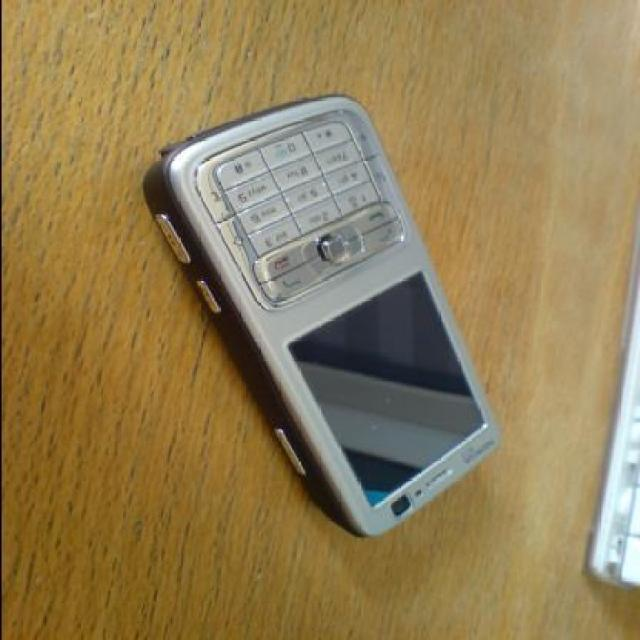phone: (151, 76, 499, 553)
